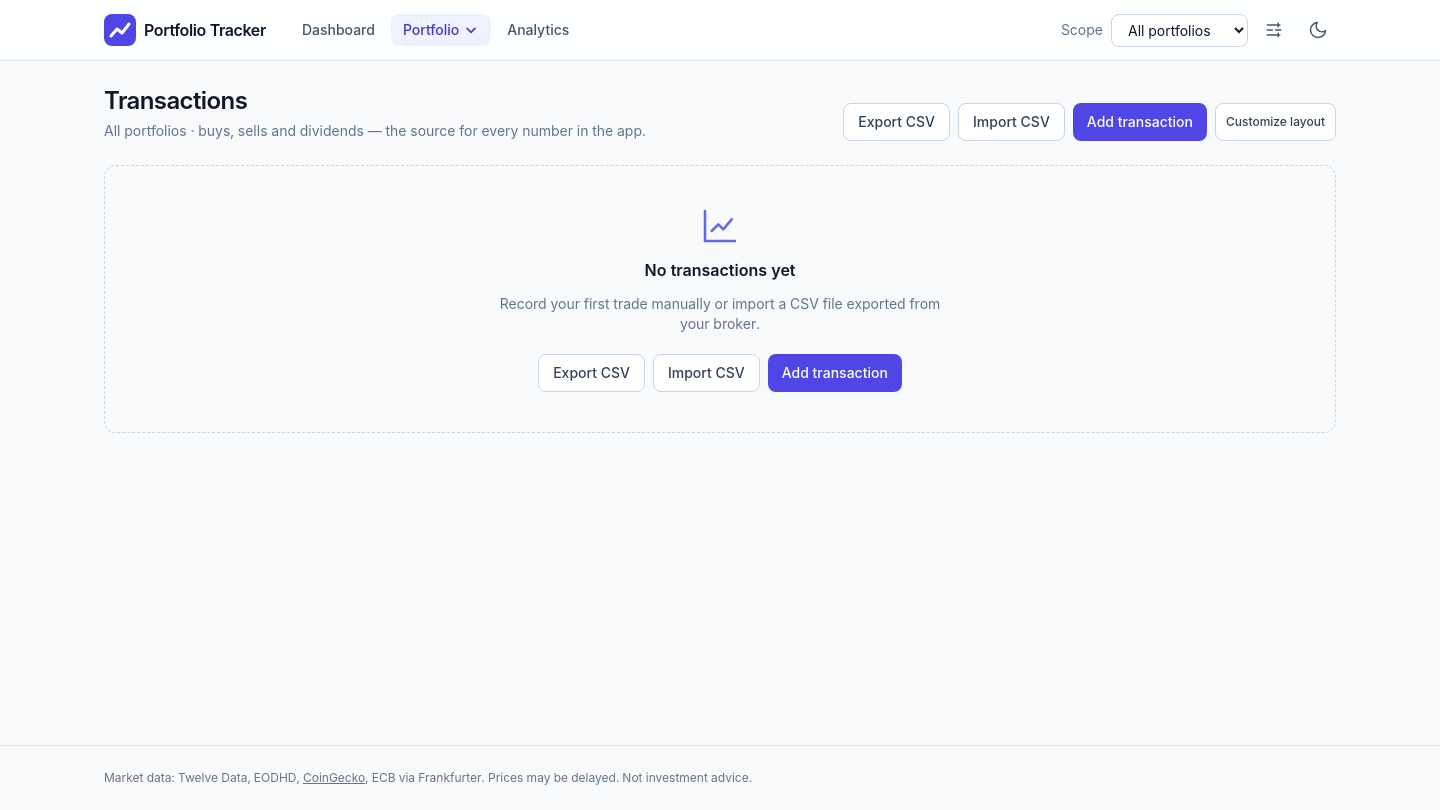
Scenario: TransactionsPage › shows an empty state whose actions open the dialogs
Expected: the heading "No transactions yet" is shown, [644, 258, 796, 282]
Expected: the number of buttons "Add transaction" is 2, [1073, 103, 1207, 141]; [768, 354, 902, 392]
Click the button "Import CSV" below "No transactions yet" at point(706, 373), box [653, 354, 760, 392]
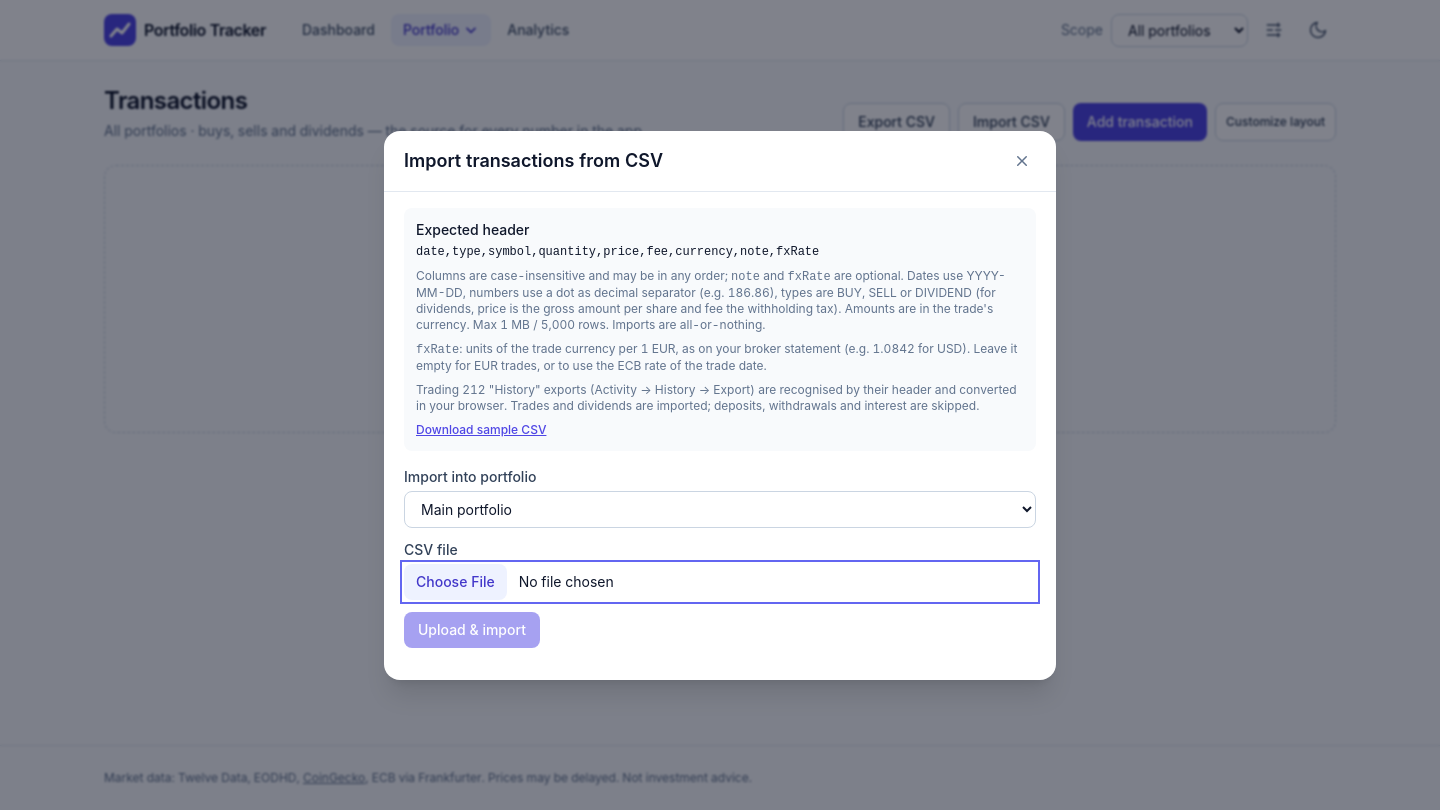
Result: the dialog "Import transactions from CSV" is shown at [384, 130, 1056, 680]
